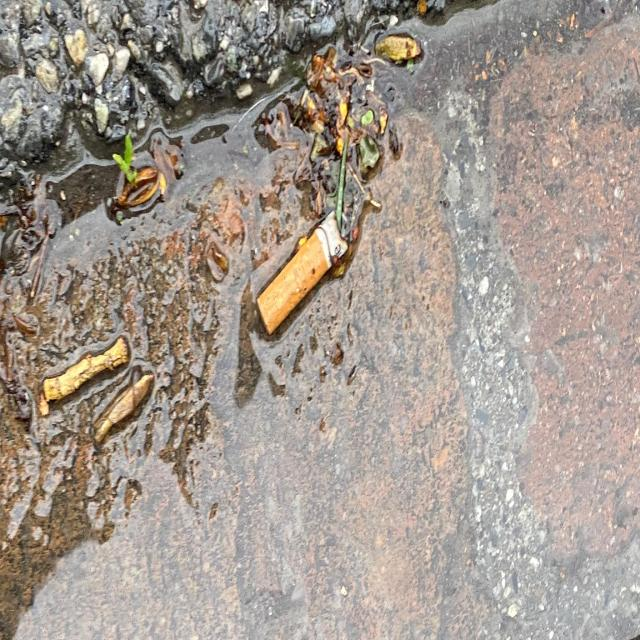other waste: (256, 209, 349, 338)
